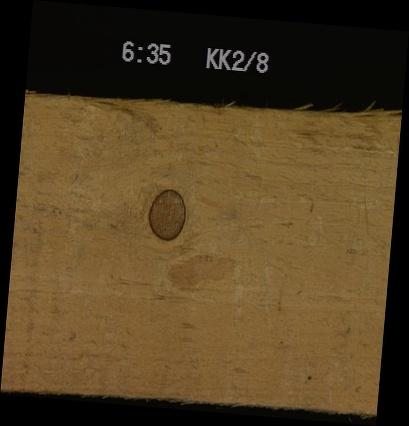dry_knot: (146, 187, 186, 241)
